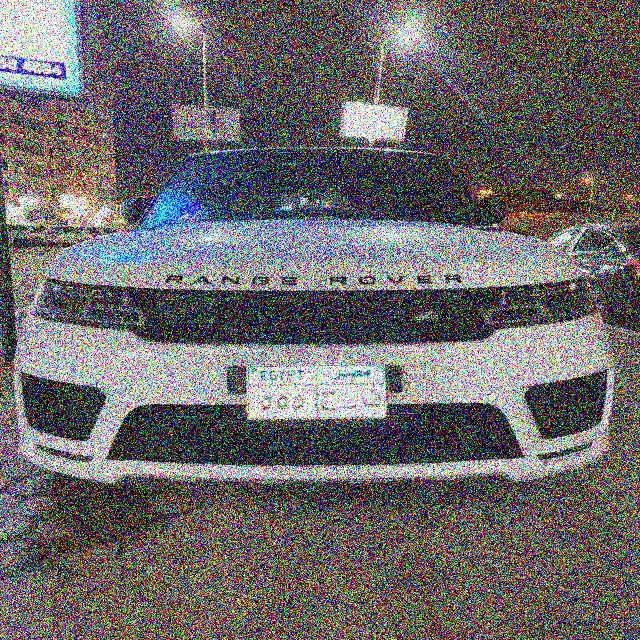License Plate: (245, 363, 389, 422)
